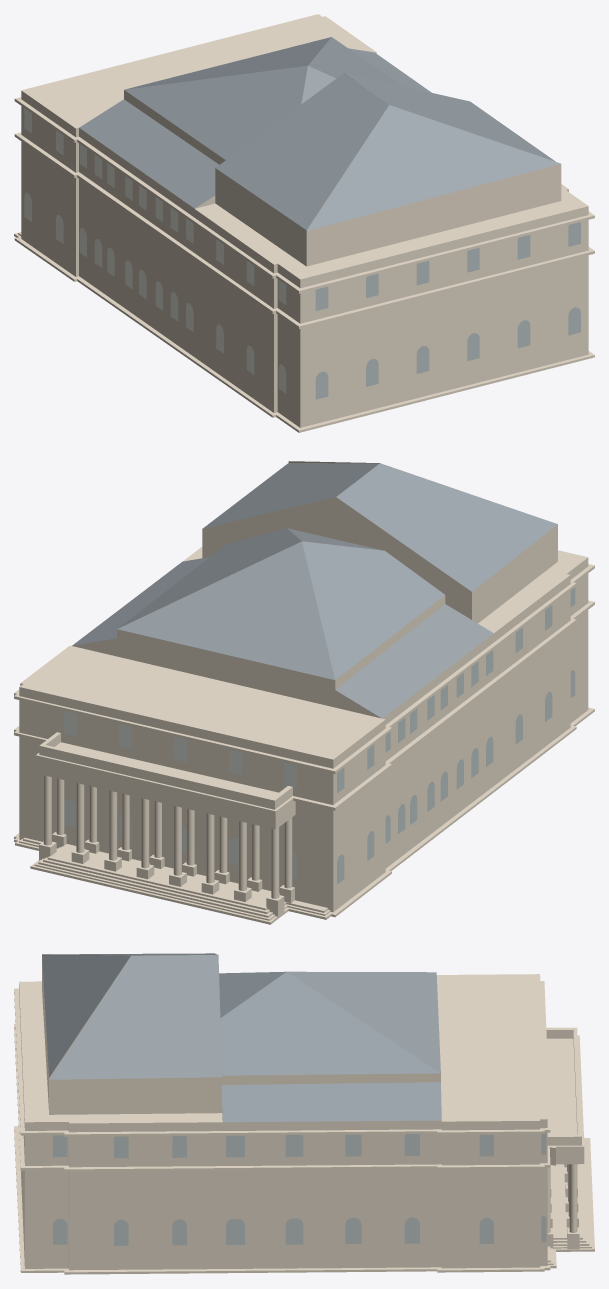
File: detail.glb
3 renders of one model, top to bottom at view 1: azimuth 30°, elevation 25°; view 2: azimuth 150°, elevation 25°; view 3: azimuth 270°, elevation 25°, orthographic. The views are drawn at different scales.
Visible parts, largest first — view 1: stone, roof, window; view 2: stone, roof, window; view 3: stone, roof, window.
Part boxes in pixels (left/top/right/bottom): stone: left=14, top=14, right=594, bottom=432; roof: left=79, top=37, right=560, bottom=230; window: left=24, top=108, right=580, bottom=399; stone: left=14, top=461, right=594, bottom=924; roof: left=72, top=463, right=557, bottom=718; window: left=64, top=587, right=575, bottom=884; stone: left=14, top=954, right=594, bottom=1274; roof: left=42, top=953, right=441, bottom=1122; window: left=22, top=1132, right=546, bottom=1245.
Bounding box in the file's own units: 37.58 × 28 × 60.11.
